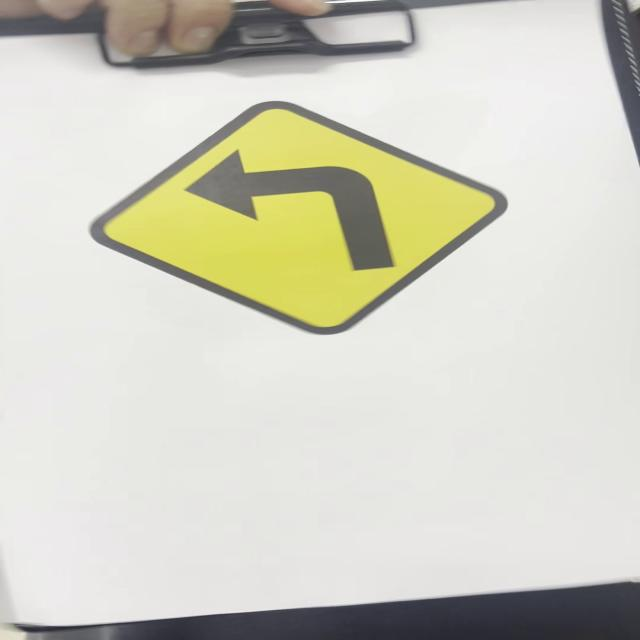left: (87, 102, 509, 337)
